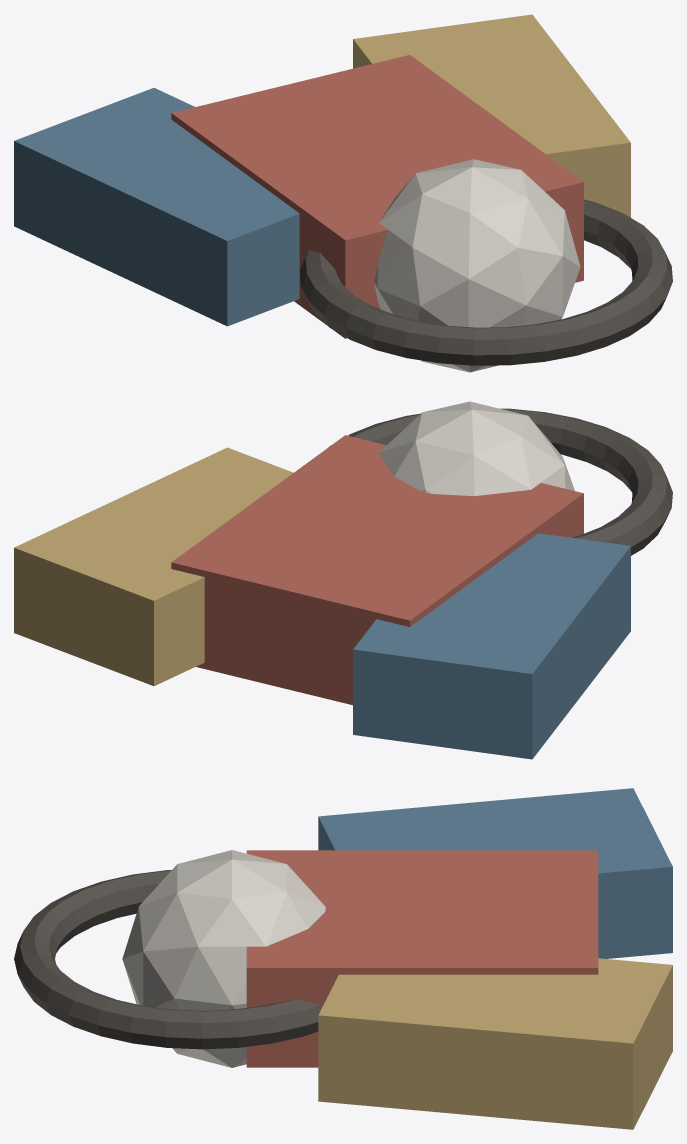
Rendered from hua_figure.glb.
The picture shows the model from 3 angles, top to bottom: view 1: azimuth 30°, elevation 25°; view 2: azimuth 150°, elevation 25°; view 3: azimuth 270°, elevation 25°; orthographic projection.
Parts seen in each view (by area): view 1: world; view 2: world; view 3: world.
Boxes of the visible parts, <box> form: world: <box>14,14,672,372</box>; world: <box>14,401,672,759</box>; world: <box>14,788,672,1129</box>.
Size of the model in its own units: 0.4129 by 0.15 by 0.4501.
